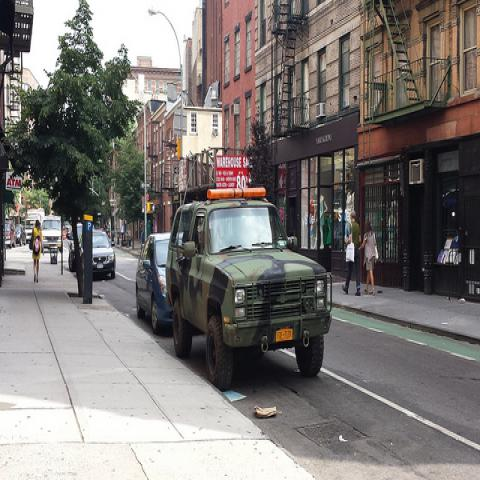car: (135, 233, 174, 335), (92, 228, 116, 278), (68, 224, 83, 272), (42, 217, 61, 252), (5, 220, 16, 249), (16, 226, 26, 247)
truck: (167, 187, 332, 390)
